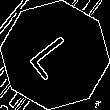L_NE: (26, 28, 84, 82)
